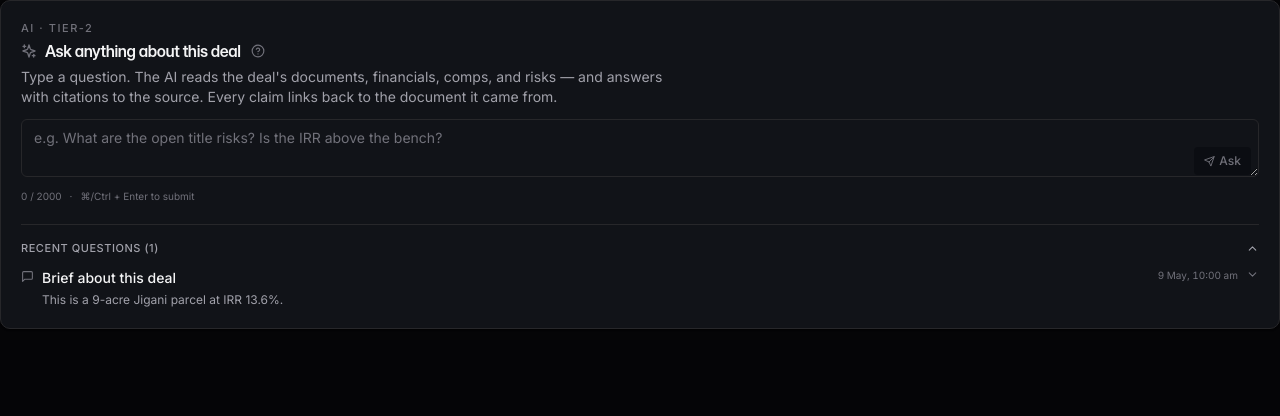
Test: DealQaBox › renders synthetic citation chips with the deal-data label
The width and height of the screenshot is (1280, 416).
Click the text "Brief about this deal" at (109, 277), box [42, 269, 176, 286]
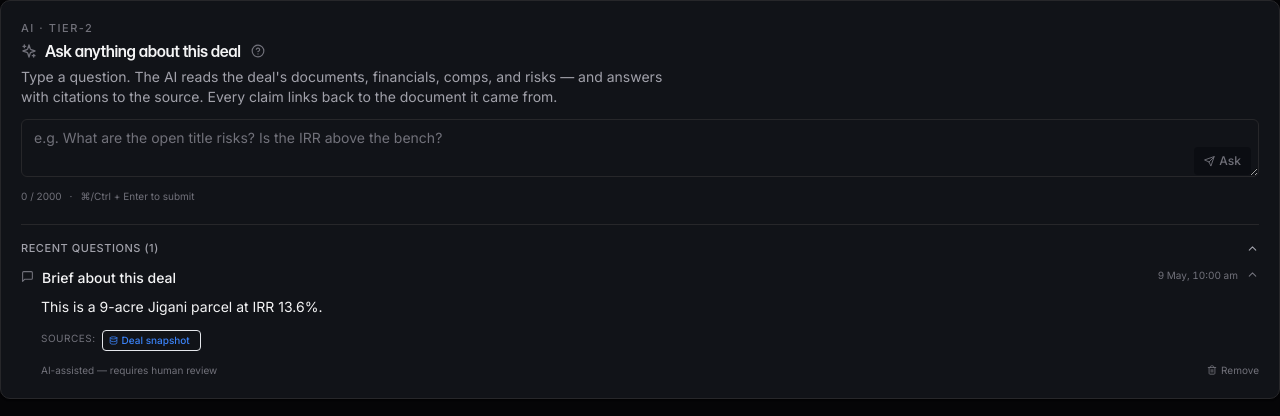
expect the text "Deal snapshot" is shown: met, box [122, 333, 190, 348]
